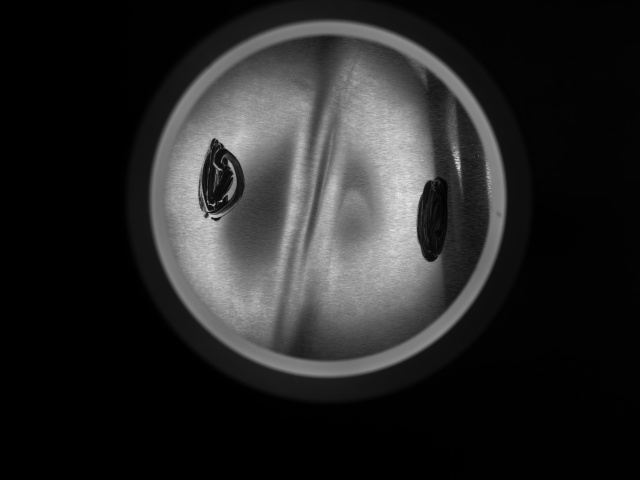zang_wu: (196, 135, 247, 222), (412, 174, 451, 264)
zhe_zhou: (200, 73, 456, 325)
